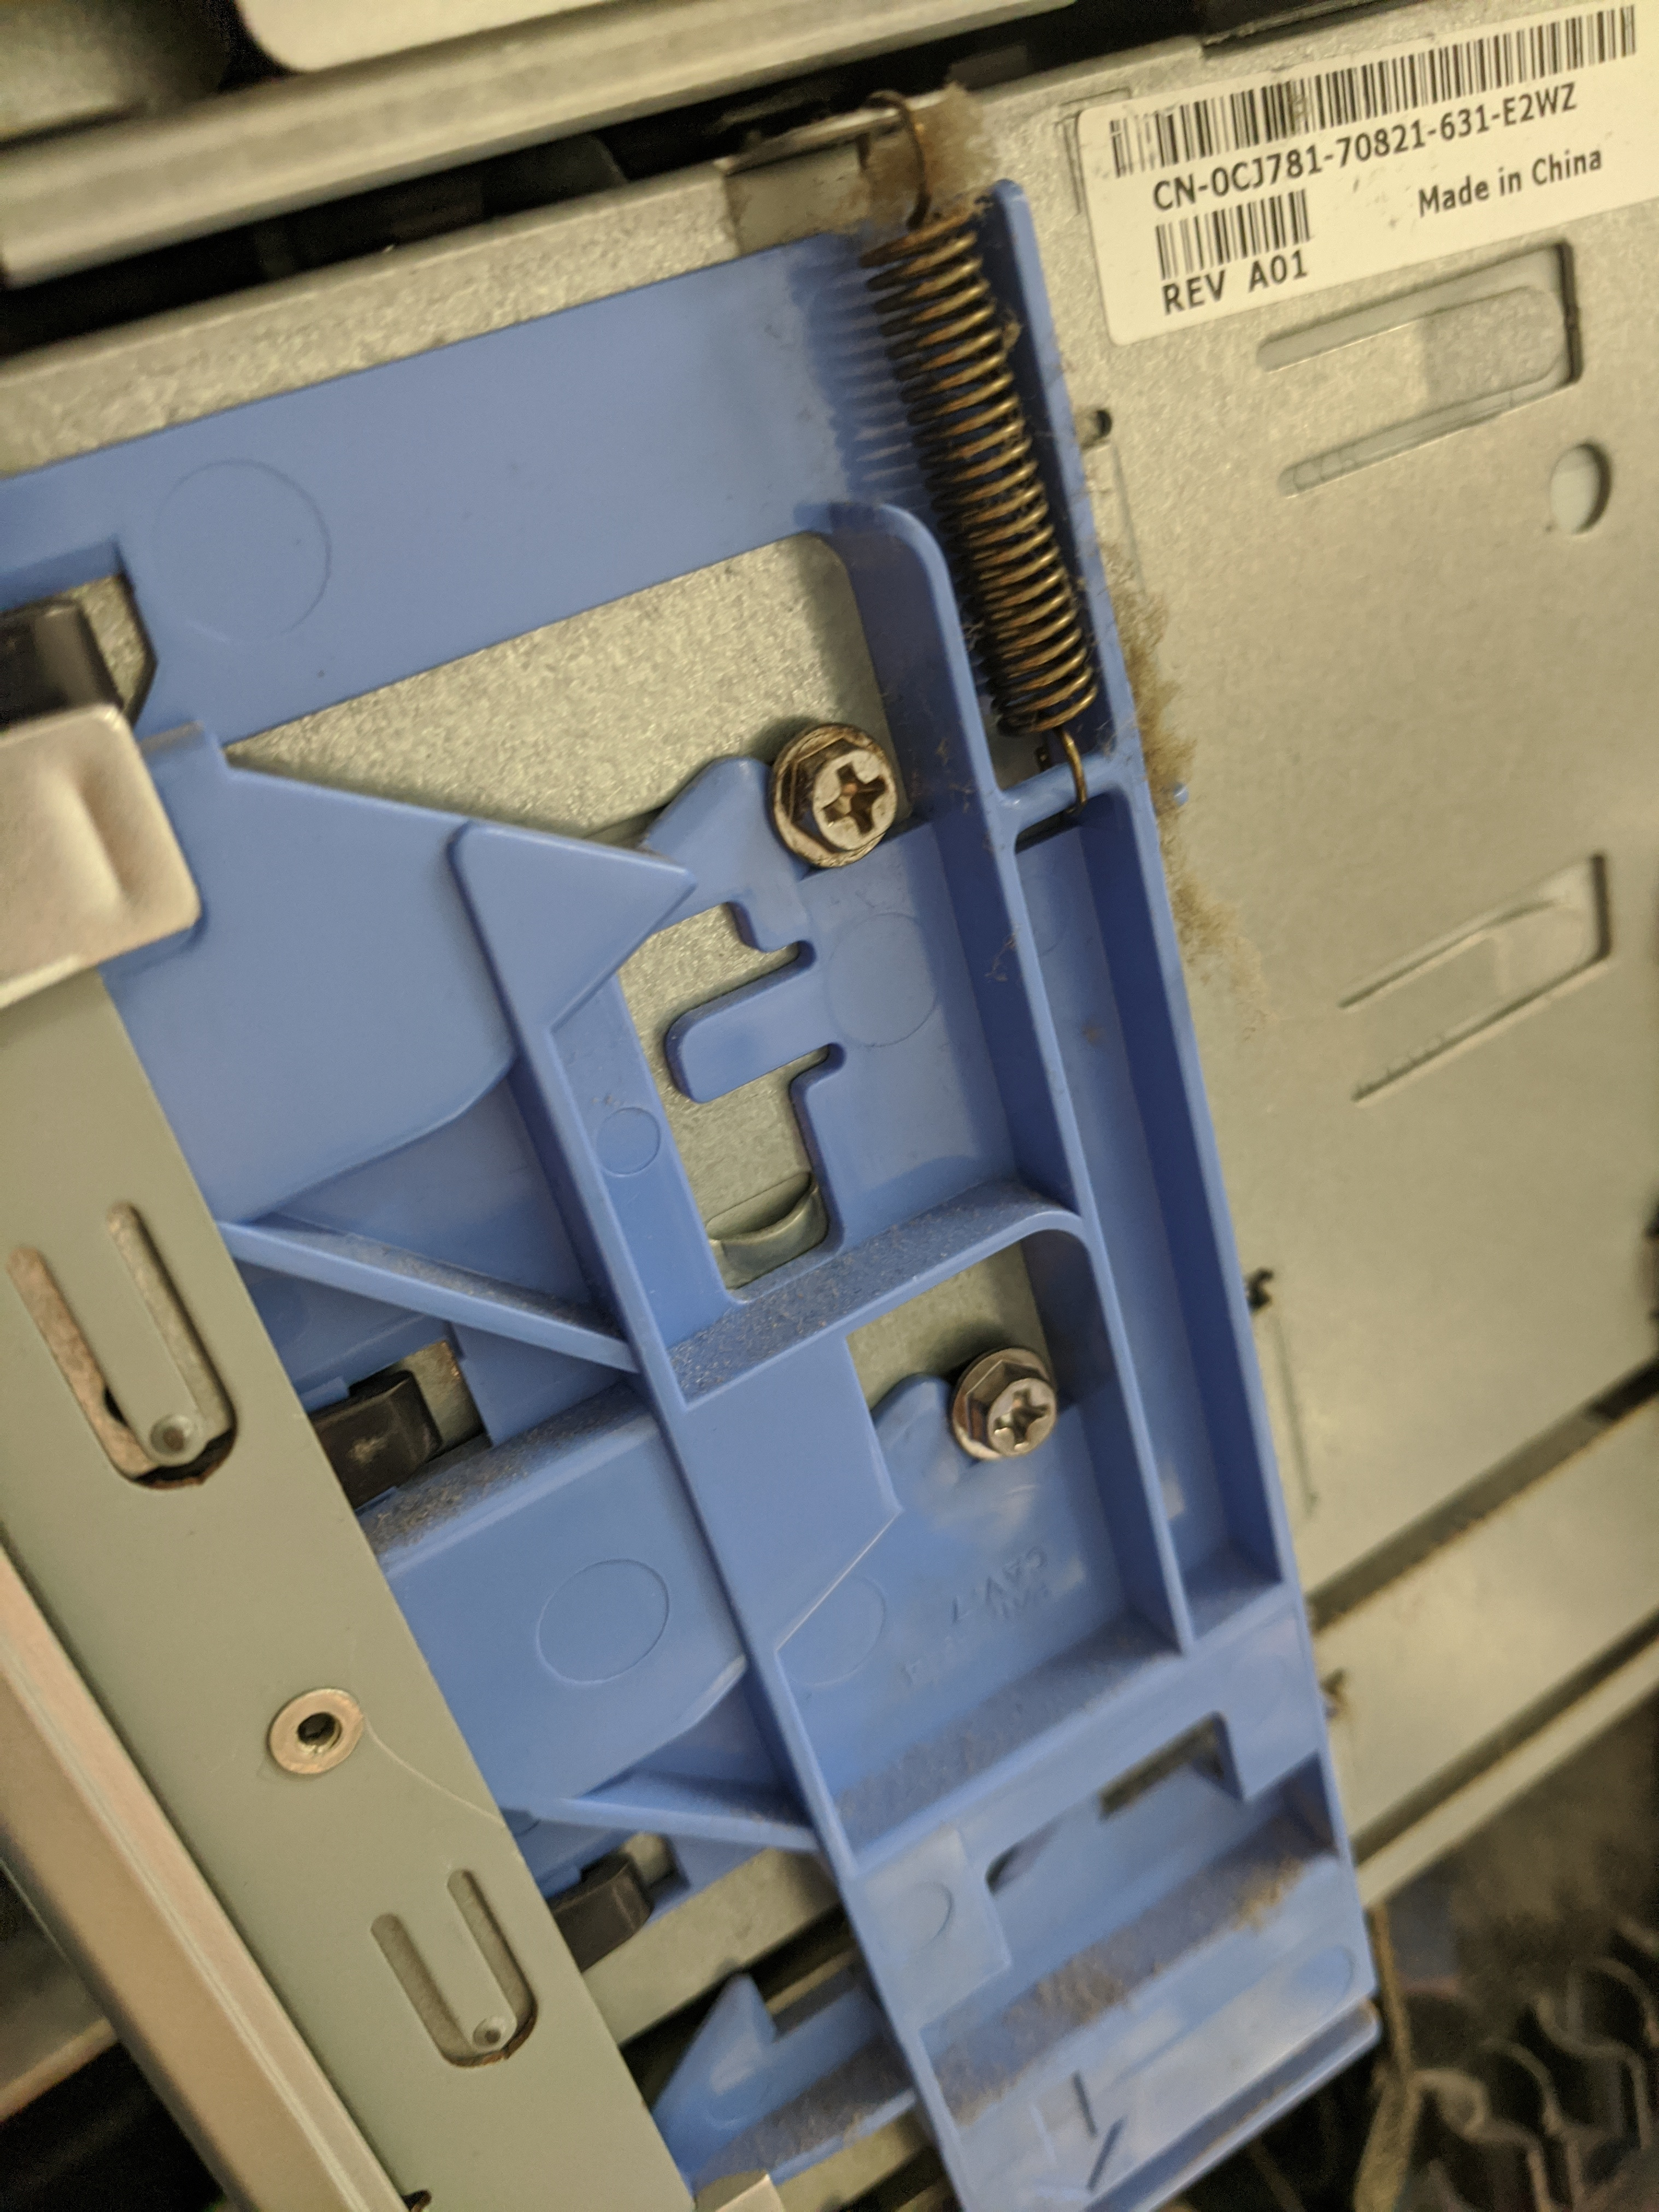cross_recessed_screw: (793, 718, 917, 862), (974, 1362, 1061, 1463)
